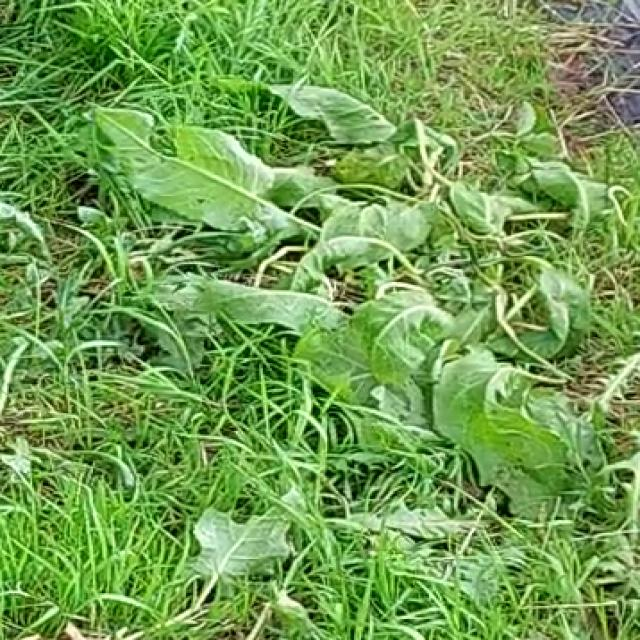organic waste: (78, 97, 640, 512)
